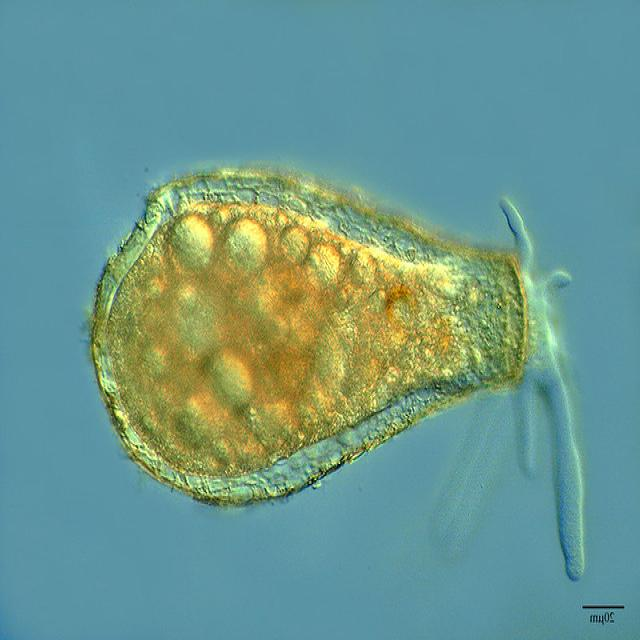Amoeba: (86, 159, 588, 580)
